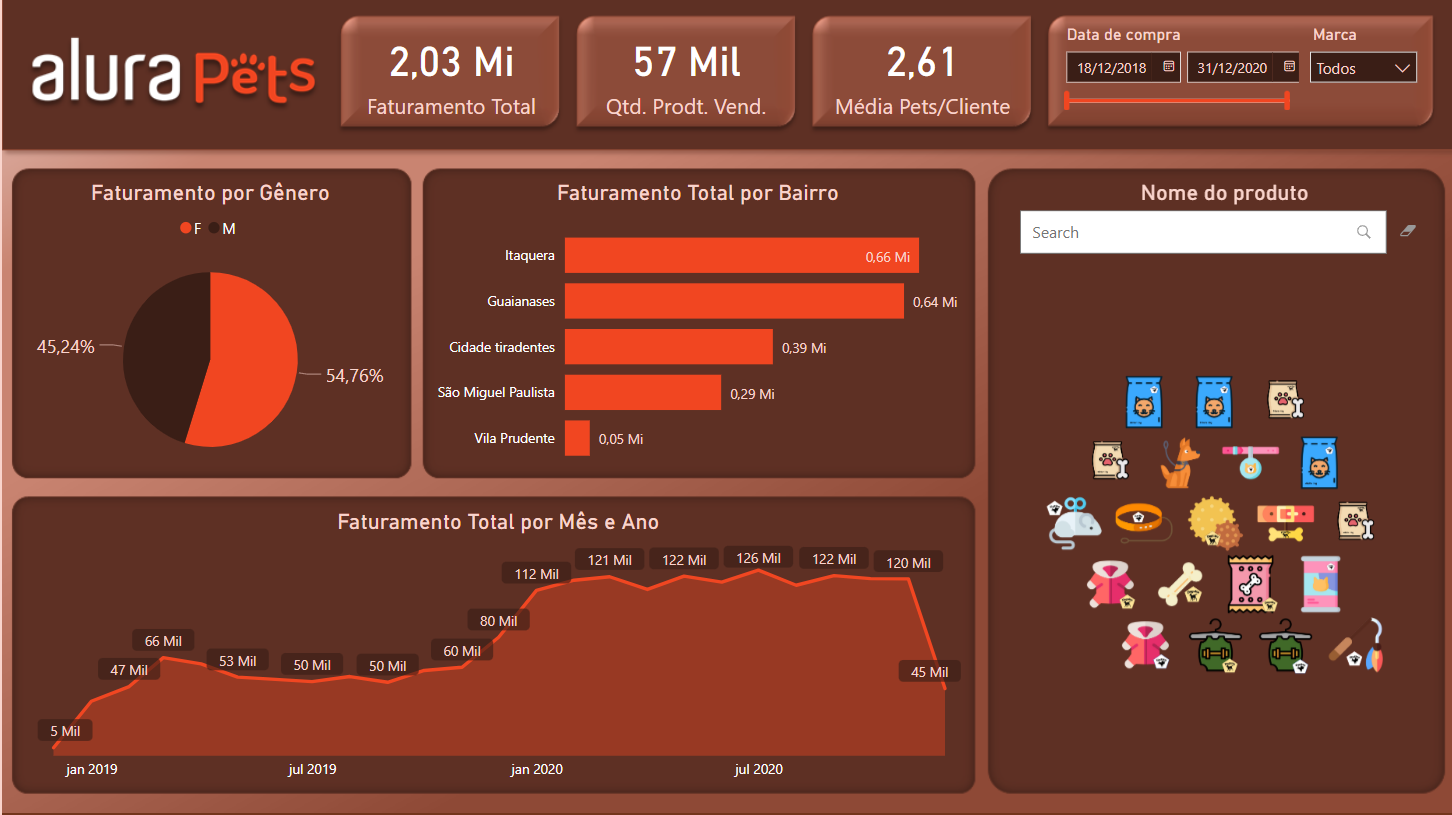

Layout of this report page (visuals, bound fields, positions):
{"tool":"powerbi","page":{"name":"Página 1","canvas":[1280,720],"ordinal":0},"visuals":[{"type":"card","fields":{"Values":["Vendas.Faturamento Total"]},"box":[299.1,17.2,193.3,93.6],"z":0},{"type":"card","fields":{"Values":["Avg(Clientes.Pets)"]},"box":[716.4,17.2,190.8,93.6],"z":1},{"type":"card","fields":{"Values":["Sum(Vendas.Quantidade)"]},"box":[505.9,17.2,194.5,93.6],"z":2},{"type":"pieChart","title":"Faturamento por Gênero","fields":{"Category":["Clientes.Gênero"],"Y":["Sum(Vendas.Faturamento)"]},"box":[8.6,160,349.6,264.7],"z":3},{"type":"clusteredBarChart","fields":{"Category":["Clientes.Bairro"],"Y":["Vendas.Faturamento Total"]},"box":[370.5,160,486.2,264.7],"z":4},{"type":"areaChart","title":"Faturamento Total por Mês e Ano","fields":{"Category":["Vendas.Data de compra.Variation.Hierarquia de datas.Ano","Vendas.Data de compra.Variation.Hierarquia de datas.Trimestre","Vendas.Data de compra.Variation.Hierarquia de datas.Mês"],"Y":["Vendas.Faturamento Total"]},"box":[17.2,449.3,839.5,247.4],"z":5},{"type":"ImageGrid_FC5183B9_926C_45E0_B5F7_0CE9EAF1DA9B","fields":{"ImageURLHQ":["Produtos.Url img"]},"box":[870.3,227.7,398.8,469],"z":6},{"type":"textFilter25A4896A83E0487089E2B90C9AE57C8A","title":"Nome do produto","fields":{"field":["Produtos.Nome produto"]},"box":[892.5,160,370.5,76.3],"z":7},{"type":"slicer","fields":{"Values":["Produtos.Marca"]},"box":[1142.4,17.2,114.5,93.6],"z":8},{"type":"slicer","fields":{"Values":["Vendas.Data de compra"]},"box":[925.7,17.2,222.8,93.6],"z":9}]}

Visuals, with their boxes in screenshot pixels (x1, y1, x2, y2), scaled from the page's 1280x720 canvas onto the 1452x815 screenshot:
card - Vendas.Faturamento Total: bbox=[339, 19, 559, 125]
card - Avg(Clientes.Pets): bbox=[813, 19, 1029, 125]
card - Sum(Vendas.Quantidade): bbox=[574, 19, 795, 125]
"Faturamento por Gênero" pieChart: bbox=[10, 181, 406, 481]
clusteredBarChart - Clientes.Bairro x Vendas.Faturamento Total: bbox=[420, 181, 972, 481]
"Faturamento Total por Mês e Ano" areaChart: bbox=[20, 509, 972, 789]
ImageGrid_FC5183B9_926C_45E0_B5F7_0CE9EAF1DA9B - Produtos.Url img: bbox=[987, 258, 1440, 789]
"Nome do produto" textFilter25A4896A83E0487089E2B90C9AE57C8A: bbox=[1012, 181, 1433, 267]
slicer - Produtos.Marca: bbox=[1296, 19, 1426, 125]
slicer - Vendas.Data de compra: bbox=[1050, 19, 1303, 125]
